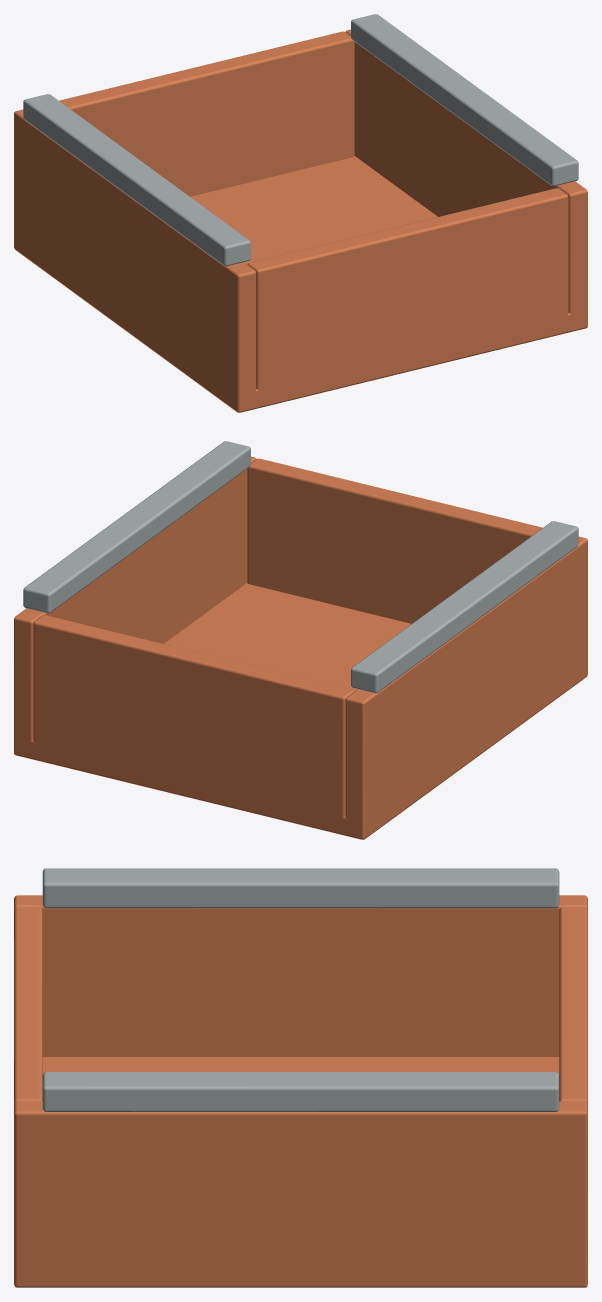
The model's file is salvage-and-repair-workshop-stacking-parts-tray-58fe225a__25503.glb.
3 views of the same model, one above another, from view 1: azimuth 30°, elevation 25°; view 2: azimuth 150°, elevation 25°; view 3: azimuth 270°, elevation 25° (orthographic). The views are drawn at different scales.
Parts seen in each view (by area): view 1: stacking-parts-tray; view 2: stacking-parts-tray; view 3: stacking-parts-tray.
Boxes of the visible parts, box(x1,y1,x2,y2) form: stacking-parts-tray: box(14, 14, 587, 412); stacking-parts-tray: box(14, 441, 587, 839); stacking-parts-tray: box(14, 868, 587, 1287).
Bounding box in the file's own units: 0.455 × 0.195 × 0.5.
